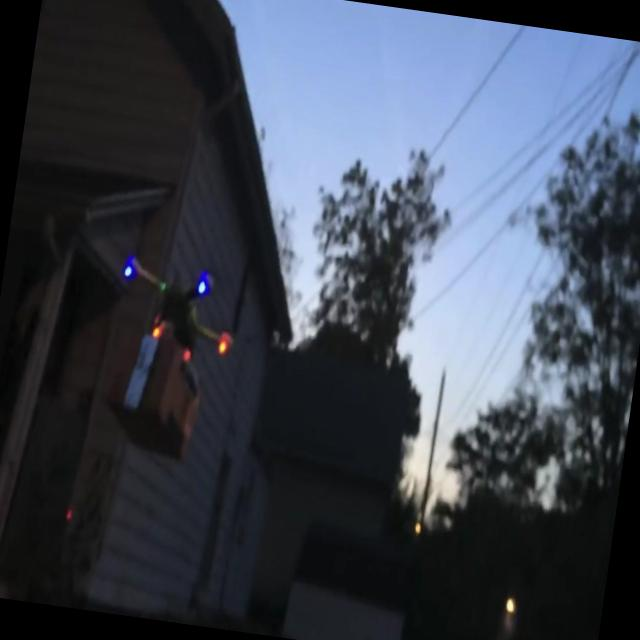drone: (109, 249, 245, 370)
